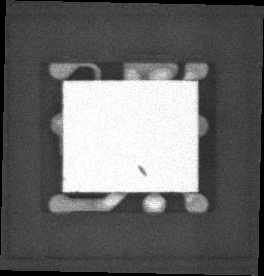DIE_INK: (130, 171, 141, 185)
